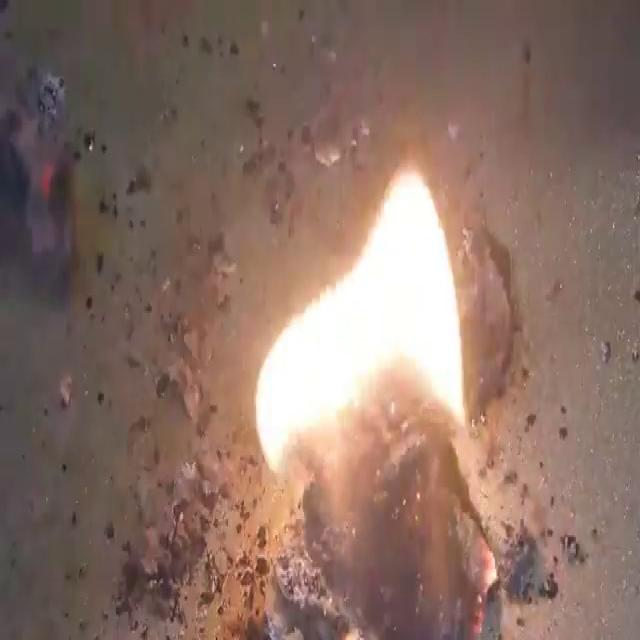Fire: (173, 97, 517, 640)
